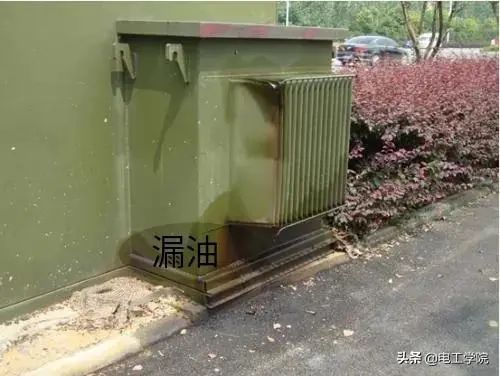oil: (119, 186, 347, 302)
